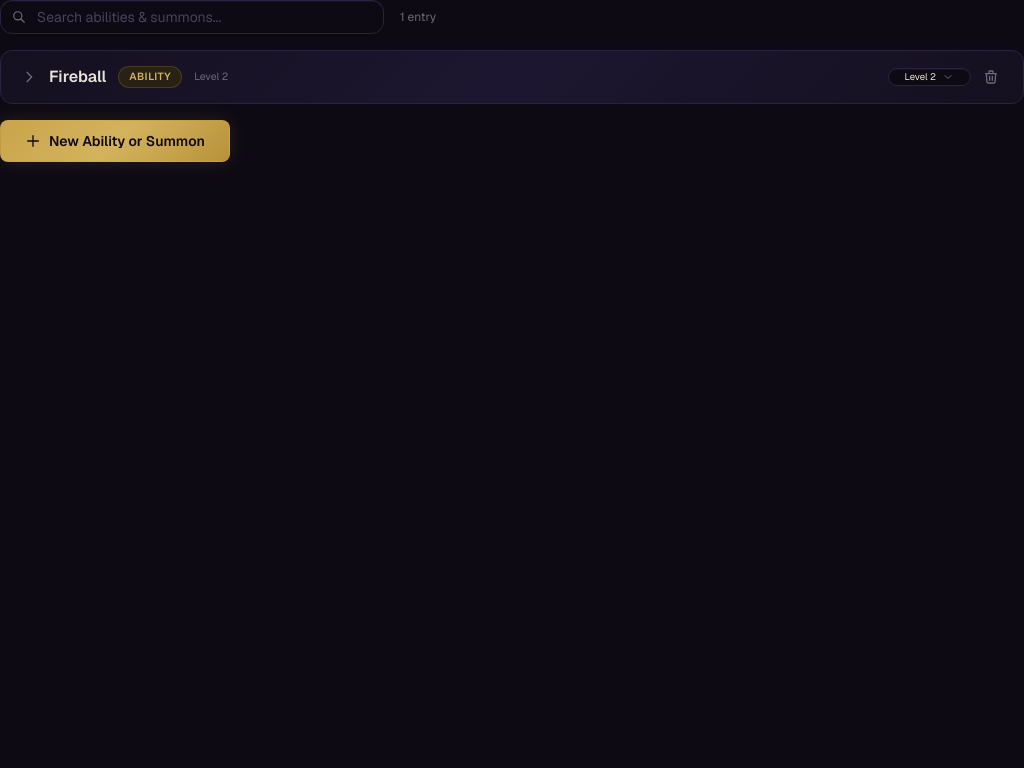
Test: AbilitiesTab › opens delete confirmation when delete button clicked
Step 1. Click the button titled "Delete ability" → (991, 77), box [979,65,1003,89]
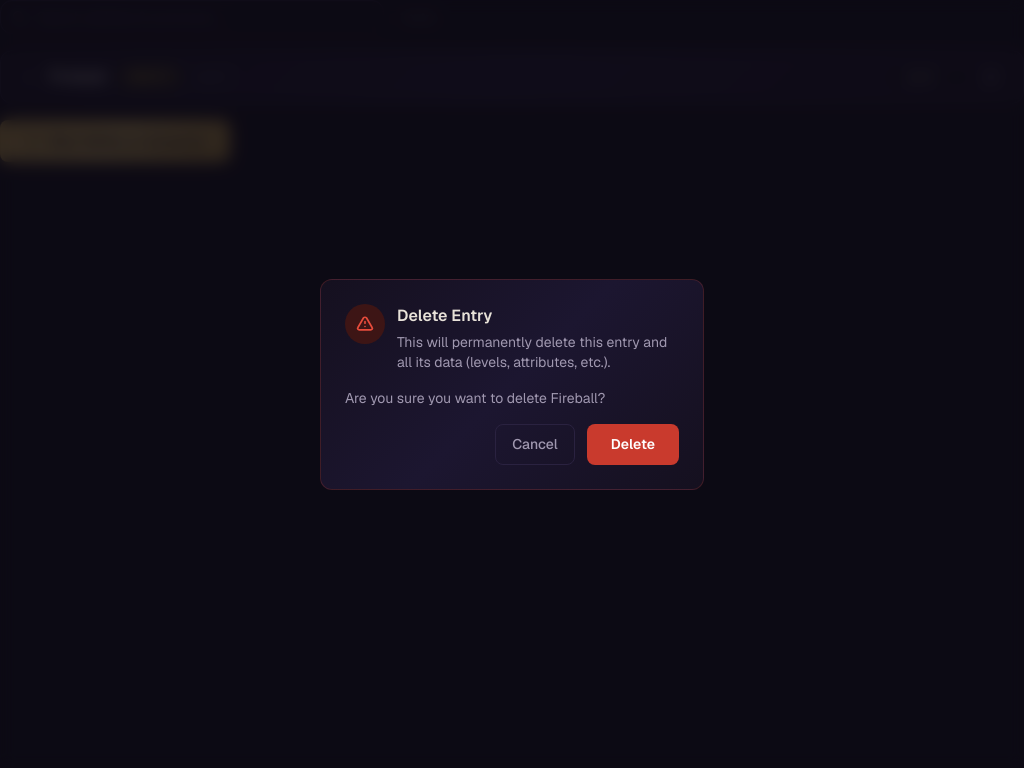
Now the heading "Delete Entry" is shown, box [397,304,492,326]
Now the text "Are you sure you want to delete Fireball?" is shown, box [345,388,605,406]
